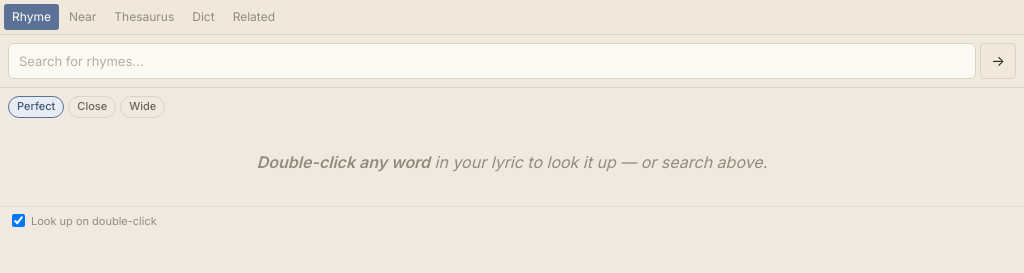
it: Tools results "used" state (C-44) › T-14.22: a rhyme result already present in the draft renders dimmed
This screenshot has width=1024, height=273.
In the field with test id "tools-search-input": point(492, 61) [8, 43, 976, 79], type "light"
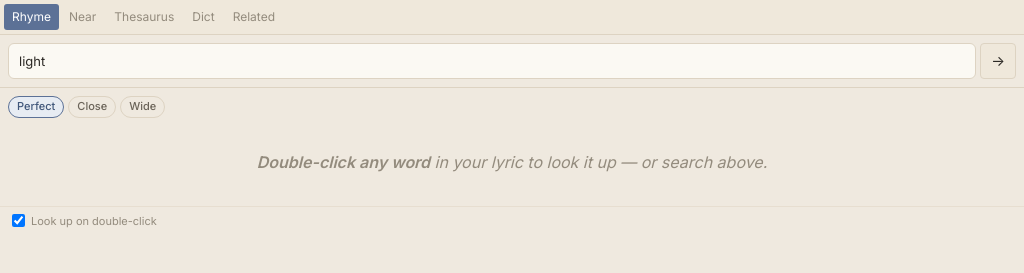
Click the button with test id "tools-search-button": point(998, 61) [980, 43, 1016, 79]
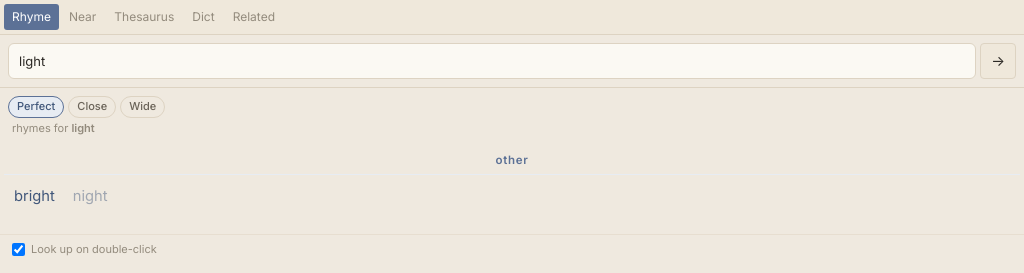
expect the button "night" is shown: met, box [71, 182, 110, 212]
